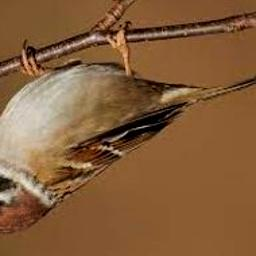Sparrow: (0, 22, 256, 235)
